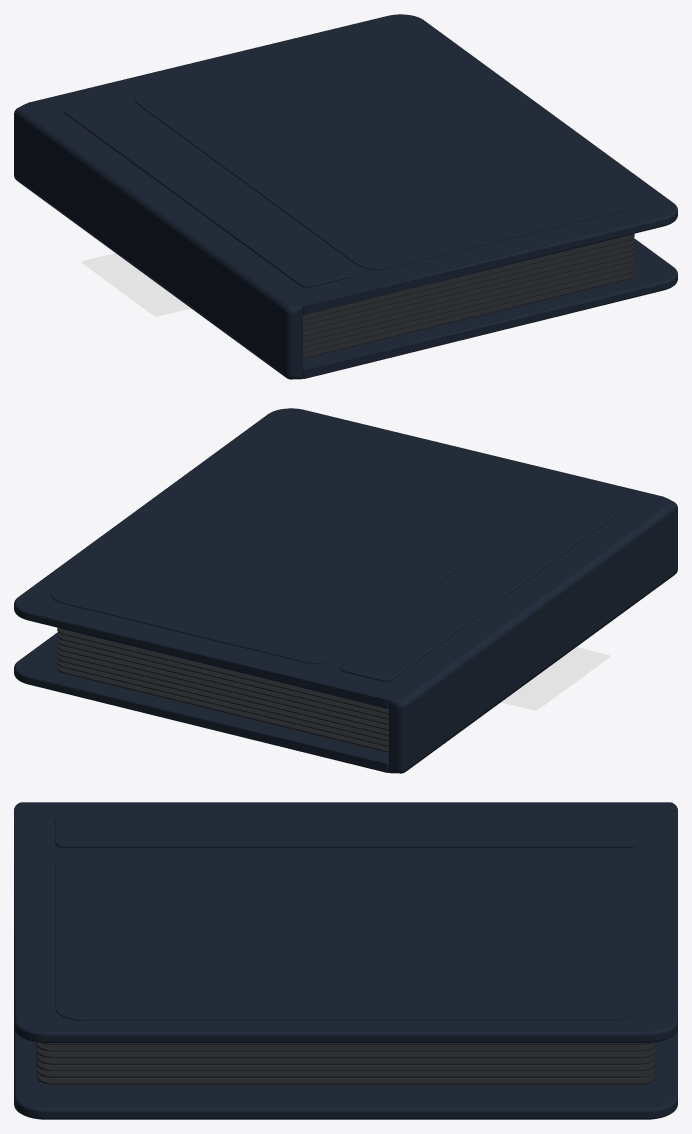
The model's file is album-10h.glb.
3 views of the same model, one above another, from view 1: azimuth 30°, elevation 25°; view 2: azimuth 150°, elevation 25°; view 3: azimuth 270°, elevation 25° (orthographic). The views are drawn at different scales.
Visible parts, largest first — view 1: Tapa_Panel, Tapa_Malla, Lomo, Tapa_Banda, Contratapa, Plantilla_Carta_F, Hoja_4_Losa, Hoja_6_Losa, Hoja_5_Losa, Hoja_3_Losa, Hoja_8_Losa, Hoja_7_Losa (+2 smaller); view 2: Tapa_Panel, Tapa_Malla, Lomo, Tapa_Banda, Contratapa, Plantilla_Carta_F, Hoja_4_Losa, Hoja_6_Losa, Hoja_5_Losa, Hoja_3_Losa, Hoja_8_Losa, Hoja_7_Losa (+2 smaller); view 3: Tapa_Panel, Tapa_Malla, Contratapa, Tapa_Banda, Hoja_5_Losa, Lomo, Hoja_7_Losa, Hoja_9_Losa, Hoja_6_Losa, Hoja_8_Losa, Hoja_4_Losa, Hoja_3_Losa.
Boxes of the visible parts, x1,y1,x2,y2 form: Tapa_Panel: (134,29,640,269); Tapa_Malla: (27,14,677,314); Lomo: (14,103,302,379); Tapa_Banda: (64,98,351,287); Contratapa: (303,238,677,378); Plantilla_Carta_F: (81,253,190,316); Hoja_4_Losa: (303,244,634,331); Hoja_6_Losa: (303,255,634,342); Hoja_5_Losa: (303,249,634,336); Hoja_3_Losa: (303,238,634,325); Hoja_8_Losa: (303,266,634,352); Hoja_7_Losa: (303,260,634,347); Tapa_Panel: (51,423,557,663); Tapa_Malla: (14,408,664,708); Lomo: (389,497,677,773); Tapa_Banda: (340,492,627,681); Contratapa: (14,632,388,772); Plantilla_Carta_F: (501,647,610,710); Hoja_4_Losa: (57,638,388,725); Hoja_6_Losa: (57,649,388,736); Hoja_5_Losa: (57,643,388,730); Hoja_3_Losa: (57,632,388,719); Hoja_8_Losa: (57,660,388,746); Hoja_7_Losa: (57,654,388,741); Tapa_Panel: (55,855,636,1020); Tapa_Malla: (14,808,677,1042); Contratapa: (14,1029,677,1119); Tapa_Banda: (55,816,636,847); Hoja_5_Losa: (36,1045,655,1058); Lomo: (14,802,677,808); Hoja_7_Losa: (36,1058,655,1071); Hoja_9_Losa: (36,1071,655,1084); Hoja_6_Losa: (36,1052,655,1064); Hoja_8_Losa: (36,1065,655,1077); Hoja_4_Losa: (36,1042,655,1051); Hoja_3_Losa: (41,1043,650,1045).
Size of the model in its own units: 0.2895 by 0.0482 by 0.322.
